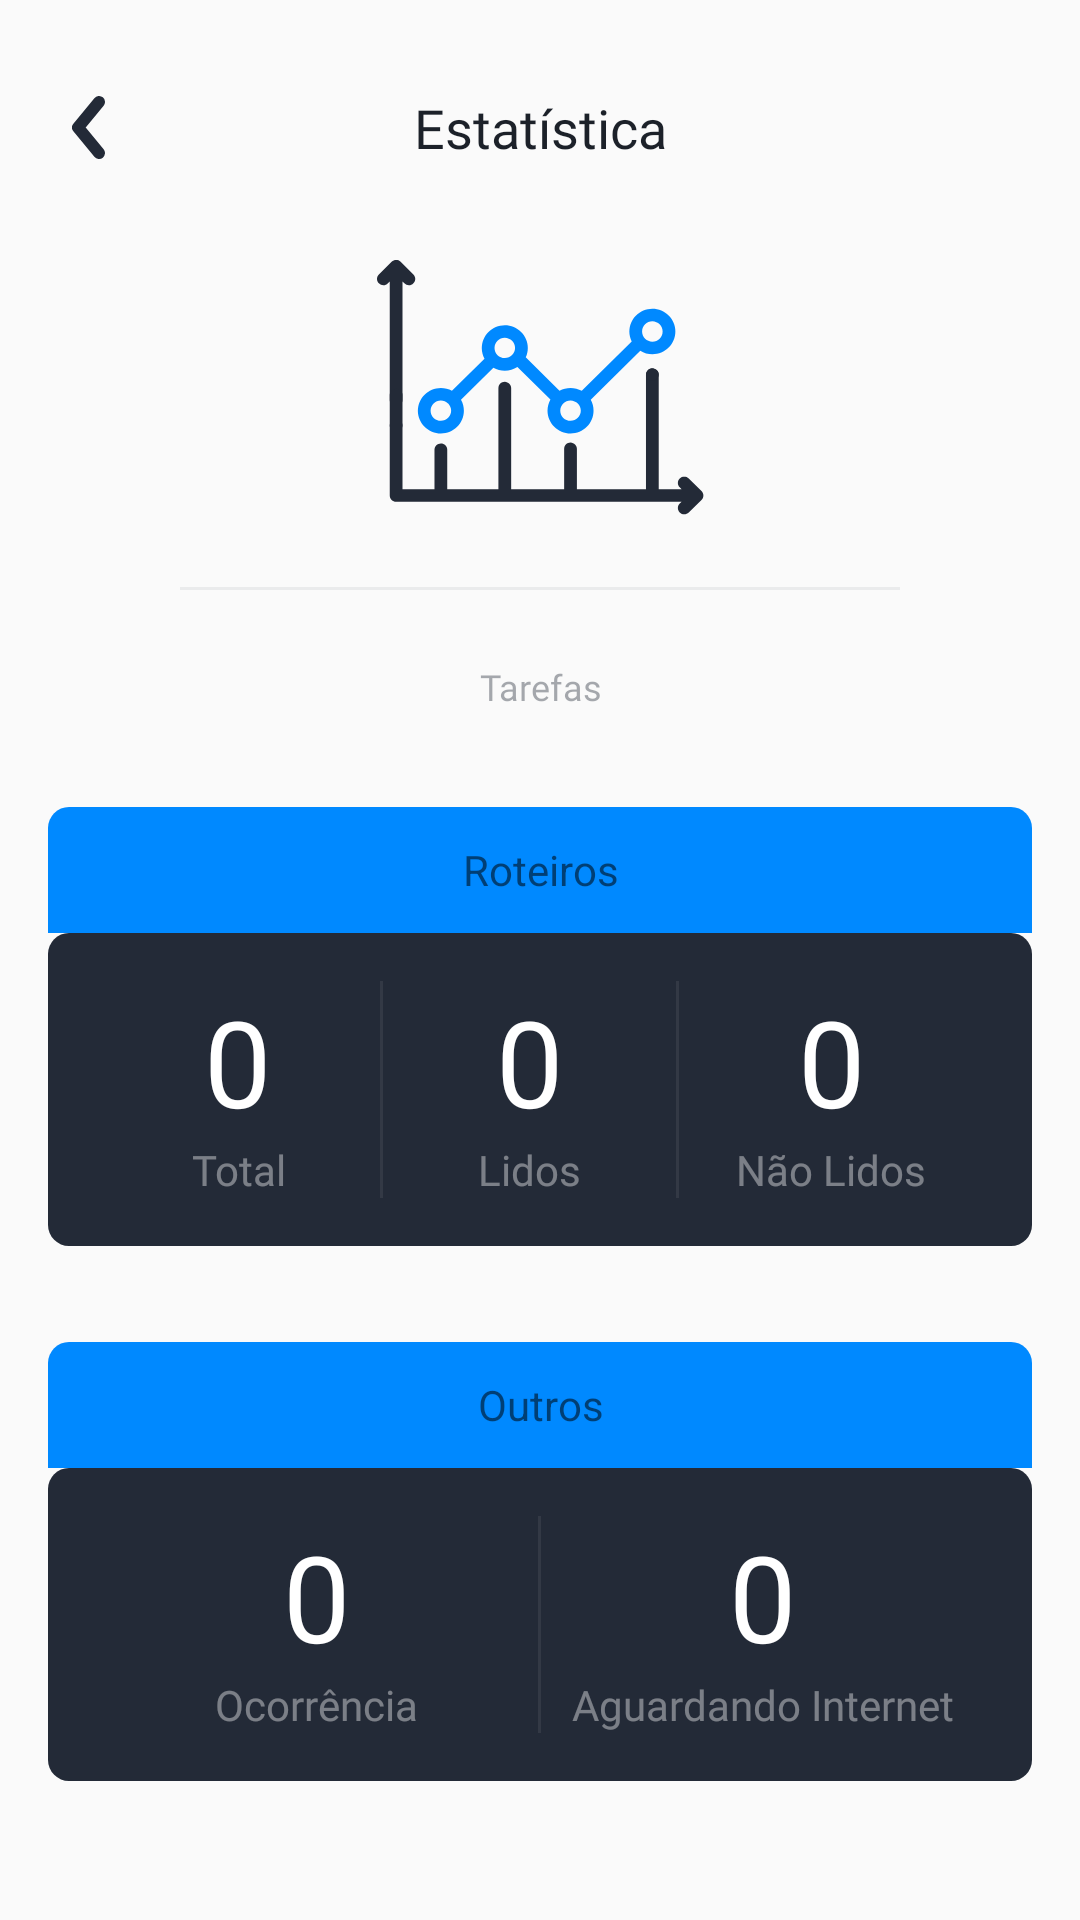

Icon click points for this 1080 x 1920 phone screenshot, format (x=x, y=y):
back: (x=88, y=127)
